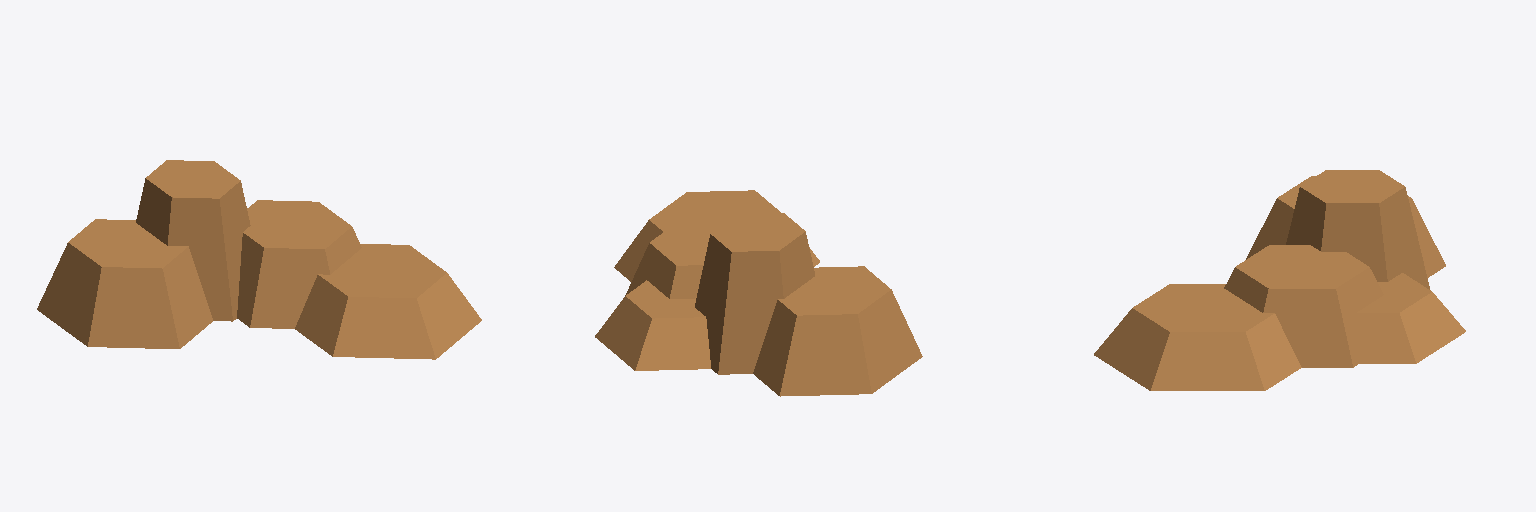
Rendered from DirtHill.obj.
The picture shows the model from 3 angles: view 1: azimuth 30°, elevation 25°; view 2: azimuth 150°, elevation 25°; view 3: azimuth 270°, elevation 25°; orthographic projection.
Visible parts, largest first — view 1: detail_dirt; view 2: detail_dirt; view 3: detail_dirt.
Boxes of the visible parts, x1=… form: detail_dirt: x1=37, y1=160, x2=481, y2=359; detail_dirt: x1=595, y1=190, x2=922, y2=396; detail_dirt: x1=1094, y1=170, x2=1465, y2=390.
Bounding box in the file's own units: 0.6 × 0.2003 × 0.6.